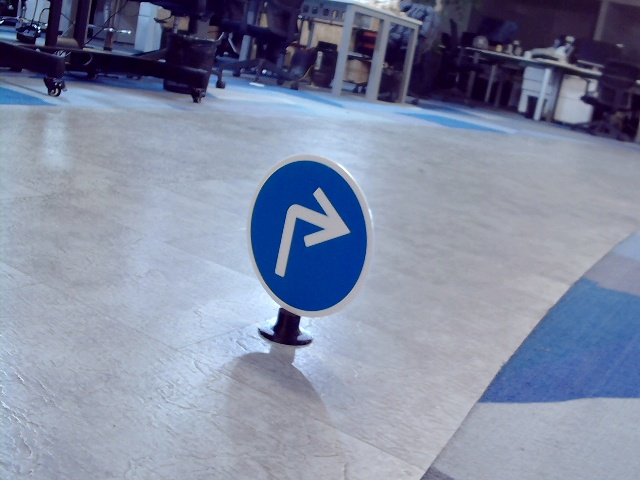turn_right: (269, 182, 348, 285)
